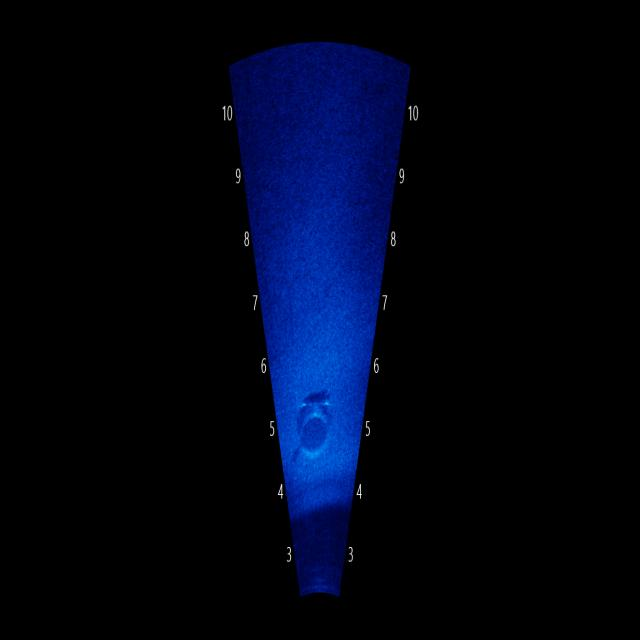circle: (288, 377, 348, 501)
